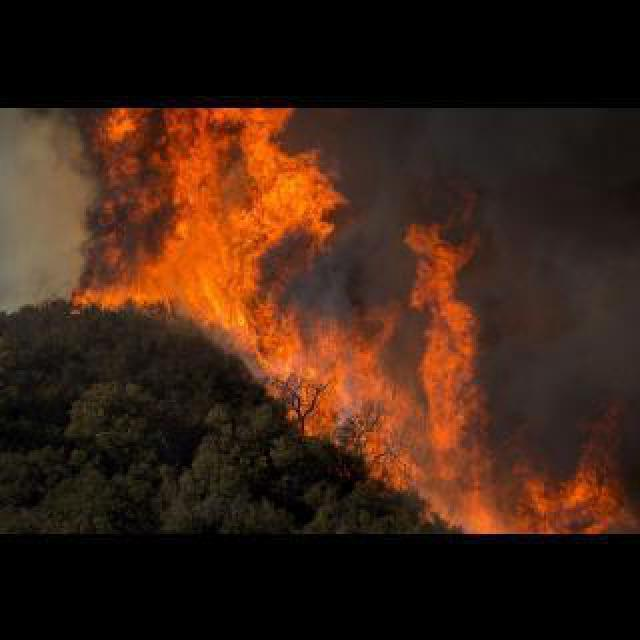Fire: (72, 118, 632, 528)
